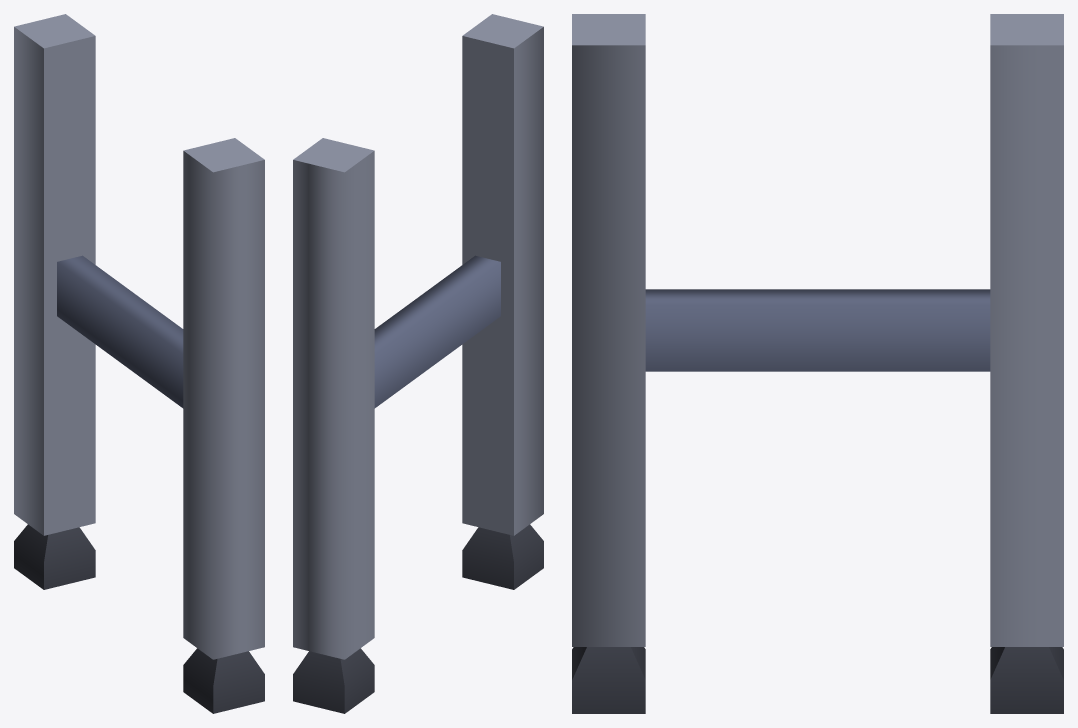
The model's file is StructureHigh-transformed.glb.
3 views of the same model, side by side, from view 1: azimuth 30°, elevation 25°; view 2: azimuth 150°, elevation 25°; view 3: azimuth 270°, elevation 25° (orthographic). The views are drawn at different scales.
Visible parts, largest first — view 1: structure-high; view 2: structure-high; view 3: structure-high.
Boxes of the visible parts, x1=… form: structure-high: x1=14, y1=14, x2=264, y2=713; structure-high: x1=293, y1=14, x2=543, y2=713; structure-high: x1=572, y1=14, x2=1063, y2=713.
Size of the model in its own units: 0.15 by 1.5 by 1.
